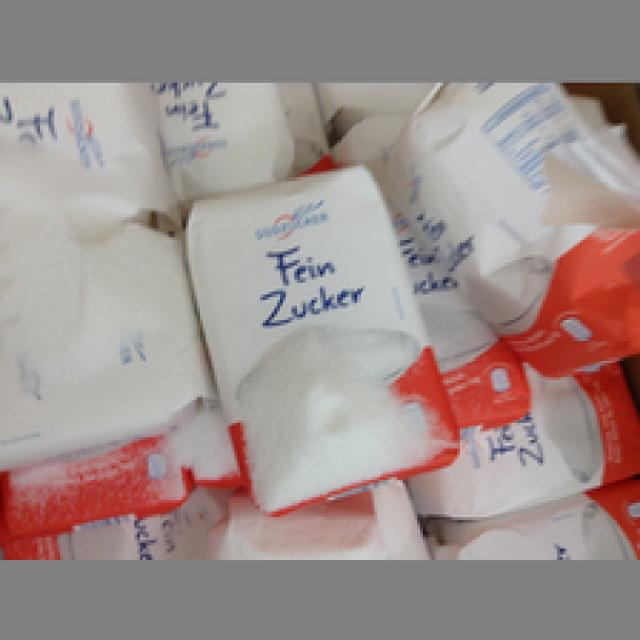groceries: (180, 163, 457, 514), (383, 80, 637, 369)
